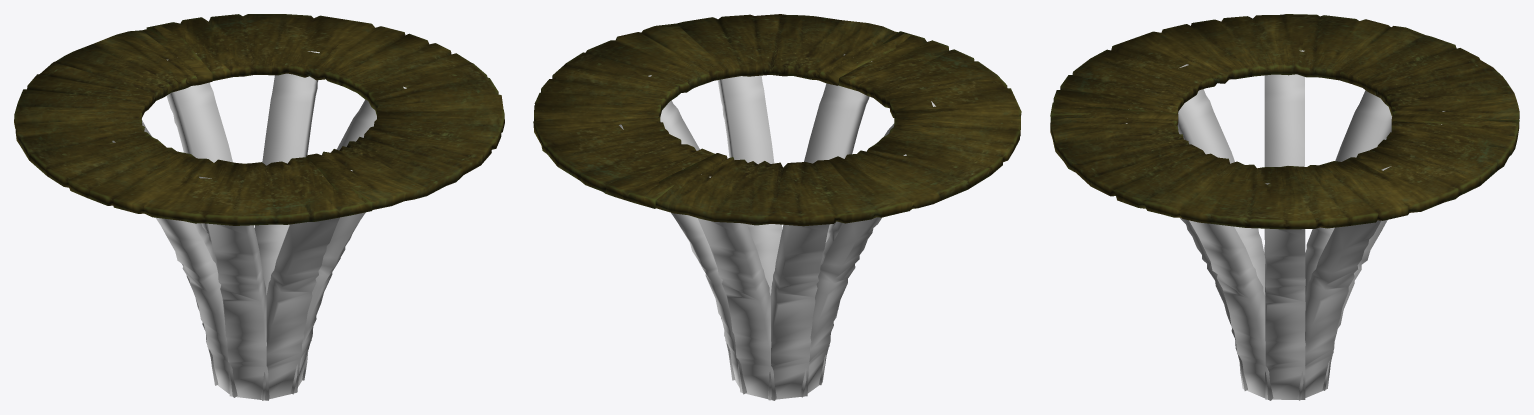
File: SM_platform_supported_high.fbx
The picture shows the model from 3 angles, left to right: view 1: azimuth 30°, elevation 25°; view 2: azimuth 150°, elevation 25°; view 3: azimuth 270°, elevation 25°; orthographic projection.
Visible parts, largest first — view 1: platform_supported_high; view 2: platform_supported_high; view 3: platform_supported_high.
Part boxes in pixels (x1,y1,x2,y2): platform_supported_high: (14,14,504,400); platform_supported_high: (533,14,1021,400); platform_supported_high: (1050,14,1519,400).
Bounding box in the file's own units: 1672 × 1009 × 1599.
